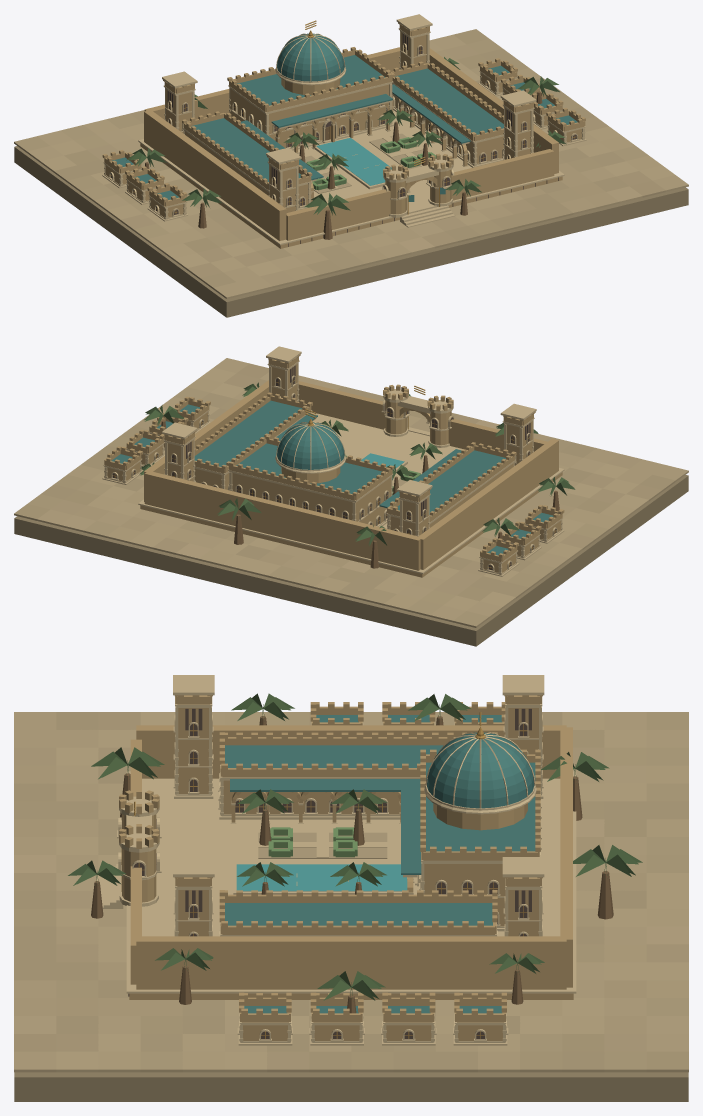
The model's file is desert.glb.
The picture shows the model from 3 angles, top to bottom: view 1: azimuth 30°, elevation 25°; view 2: azimuth 150°, elevation 25°; view 3: azimuth 270°, elevation 25°; orthographic projection. The views are drawn at different scales.
Visible parts, largest first — view 1: site, walled-court, arcades-roof, audience-hall-roof, water-court, wind-towers, audience-hall, landscape, landscape-roof, arcades, wind-towers-roof, water-court-roof; view 2: site, walled-court, arcades-roof, audience-hall-roof, wind-towers, landscape, audience-hall, landscape-roof, water-court, arcades, wind-towers-roof, water-court-roof; view 3: site, walled-court, arcades-roof, landscape, audience-hall-roof, water-court, wind-towers, landscape-roof, arcades, audience-hall, wind-towers-roof, water-court-roof.
Part boxes in pixels (box(x1,y1,x2,y2)): site: box(14, 29, 688, 317); walled-court: box(138, 47, 564, 248); arcades-roof: box(182, 61, 503, 189); audience-hall-roof: box(227, 30, 392, 127); water-court: box(283, 109, 454, 217); wind-towers: box(162, 14, 536, 212); audience-hall: box(228, 78, 394, 153); landscape: box(102, 57, 586, 239); landscape-roof: box(102, 58, 585, 206); arcades: box(182, 82, 503, 209); wind-towers-roof: box(163, 22, 533, 169); water-court-roof: box(383, 153, 453, 180); site: box(14, 358, 688, 646); walled-court: box(138, 380, 564, 577); arcades-roof: box(194, 392, 516, 521); audience-hall-roof: box(229, 418, 394, 500); wind-towers: box(162, 346, 536, 536); landscape: box(102, 382, 575, 576); audience-hall: box(228, 467, 393, 526); landscape-roof: box(104, 396, 564, 561); water-court: box(321, 389, 454, 495); arcades: box(194, 410, 515, 531); wind-towers-roof: box(164, 354, 535, 501); water-court-roof: box(383, 384, 453, 411); site: box(14, 712, 688, 1101); walled-court: box(97, 725, 576, 999); arcades-roof: box(219, 732, 497, 934); landscape: box(68, 693, 642, 1045); audience-hall-roof: box(401, 727, 540, 874); water-court: box(117, 789, 407, 906); wind-towers: box(173, 675, 544, 936); landscape-roof: box(239, 702, 506, 1022); arcades: box(218, 764, 497, 936); audience-hall: box(403, 789, 541, 931); wind-towers-roof: box(174, 695, 542, 886); water-court-roof: box(119, 789, 159, 848).
Bounding box in the file's own units: 59.01 × 16.13 × 47.06.
